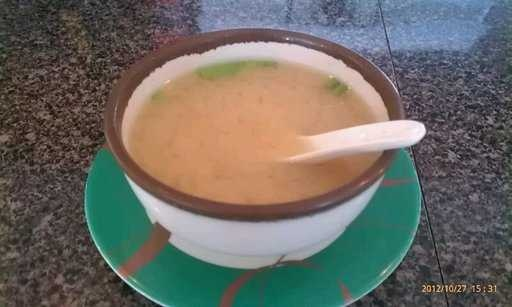soup: (124, 52, 384, 204)
